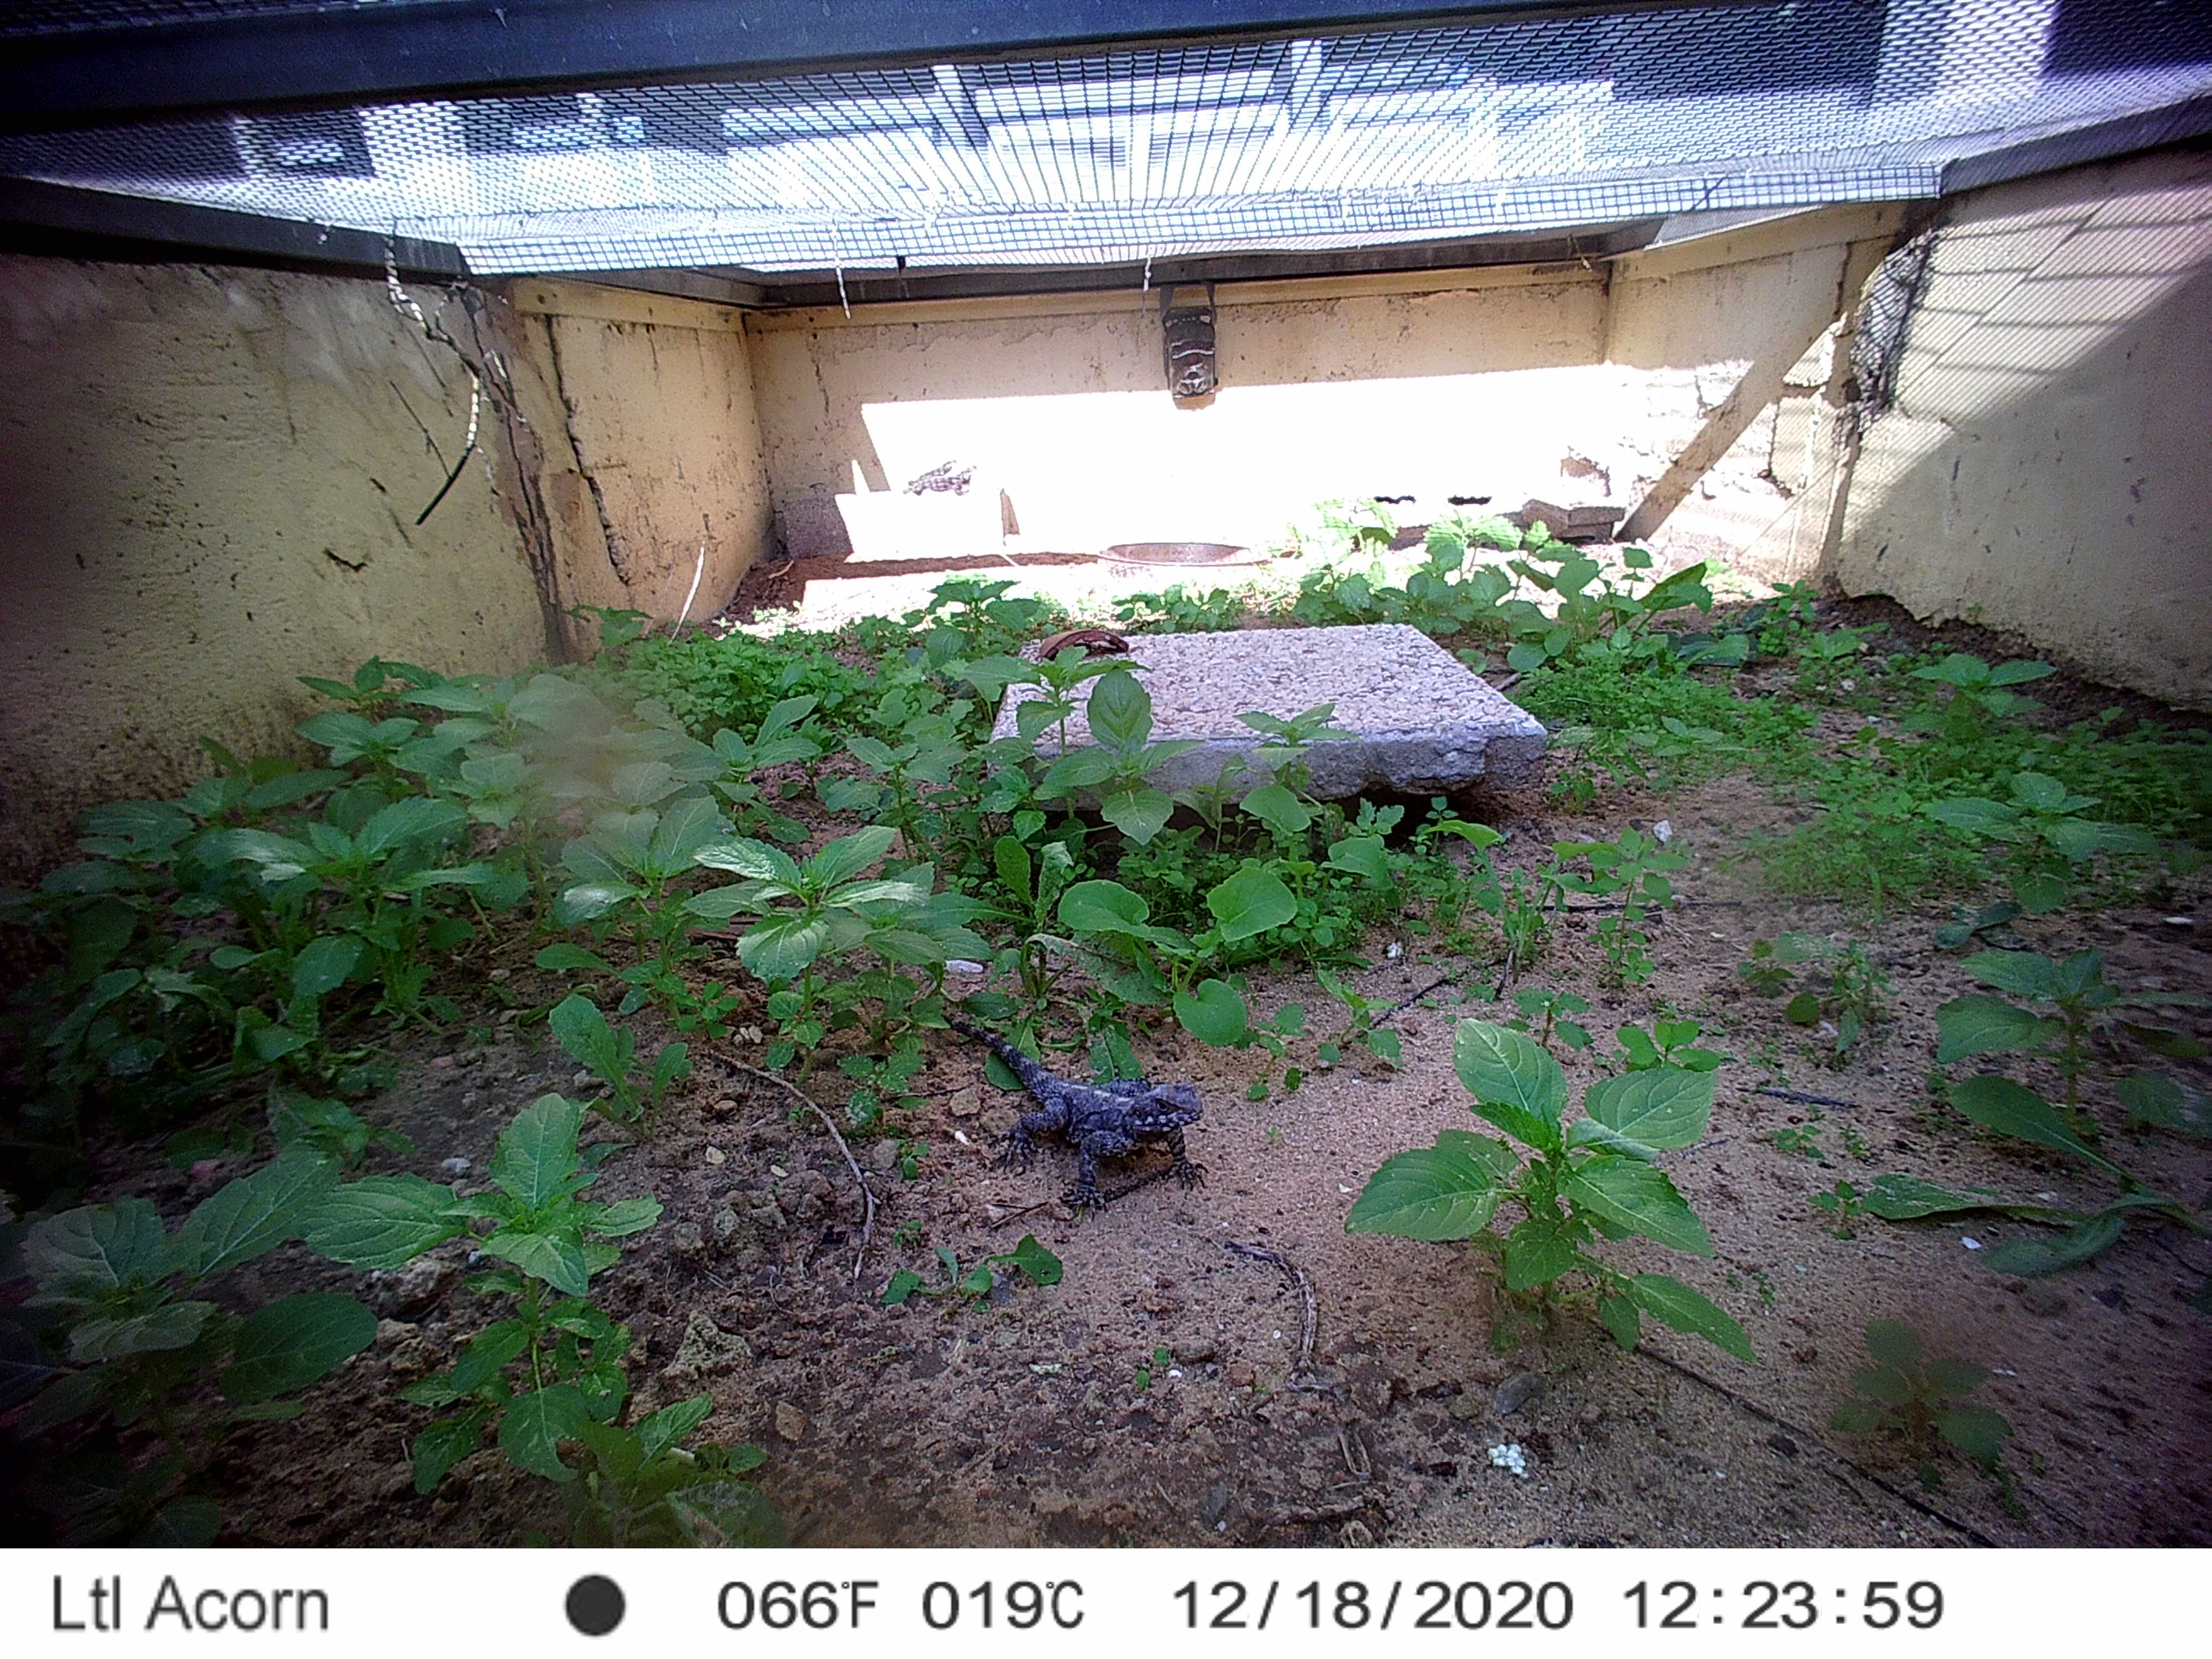lizard: (937, 1006, 1214, 1209), (892, 451, 986, 498)
